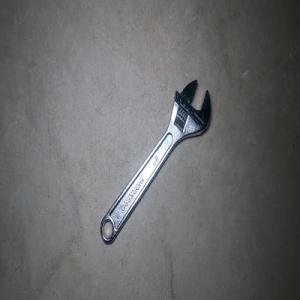Wrench: (100, 79, 211, 243)
